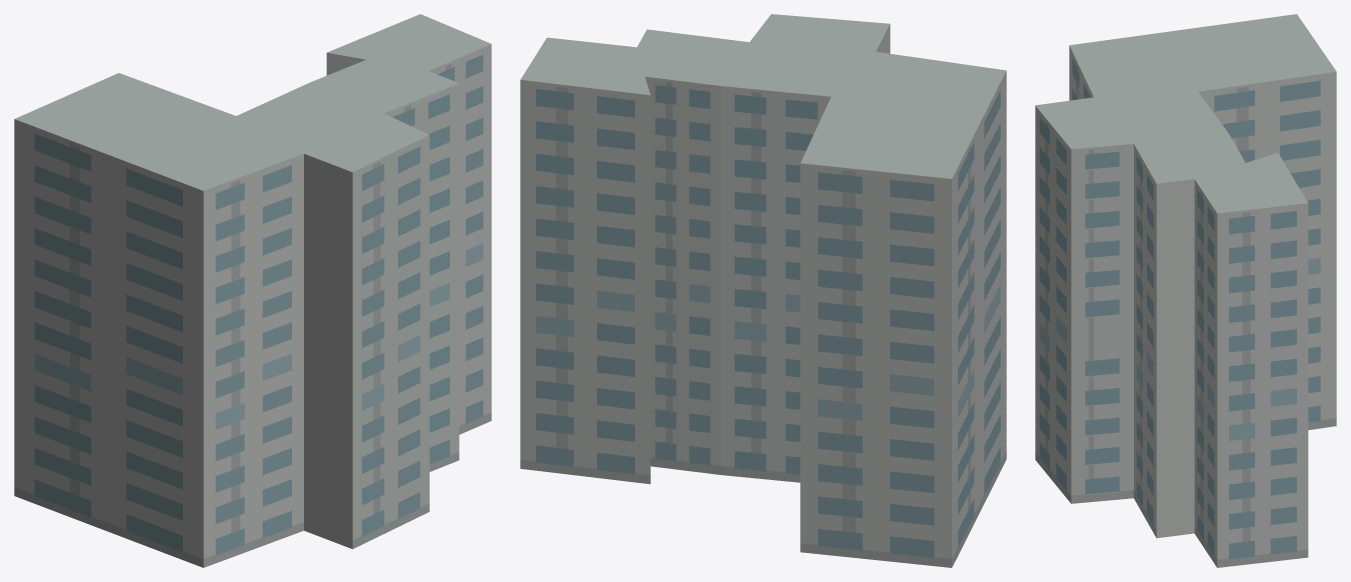
File: residential-9cb6049f-ac21-4c8c-9900-4abc6d0c2a74.glb
3 renders of one model, left to right at view 1: azimuth 30°, elevation 25°; view 2: azimuth 150°, elevation 25°; view 3: azimuth 270°, elevation 25°, orthographic. The views are drawn at different scales.
Parts seen in each view (by area): view 1: residential-9cb6049f-ac21-4c8c-9900-4abc6d0c2a74.tmp; view 2: residential-9cb6049f-ac21-4c8c-9900-4abc6d0c2a74.tmp; view 3: residential-9cb6049f-ac21-4c8c-9900-4abc6d0c2a74.tmp.
Part boxes in pixels (bbox=[...]): residential-9cb6049f-ac21-4c8c-9900-4abc6d0c2a74.tmp: bbox=[14, 14, 491, 567]; residential-9cb6049f-ac21-4c8c-9900-4abc6d0c2a74.tmp: bbox=[520, 14, 1006, 567]; residential-9cb6049f-ac21-4c8c-9900-4abc6d0c2a74.tmp: bbox=[1035, 14, 1336, 567].
Size of the model in its own units: 44.68 by 37 by 28.53.
